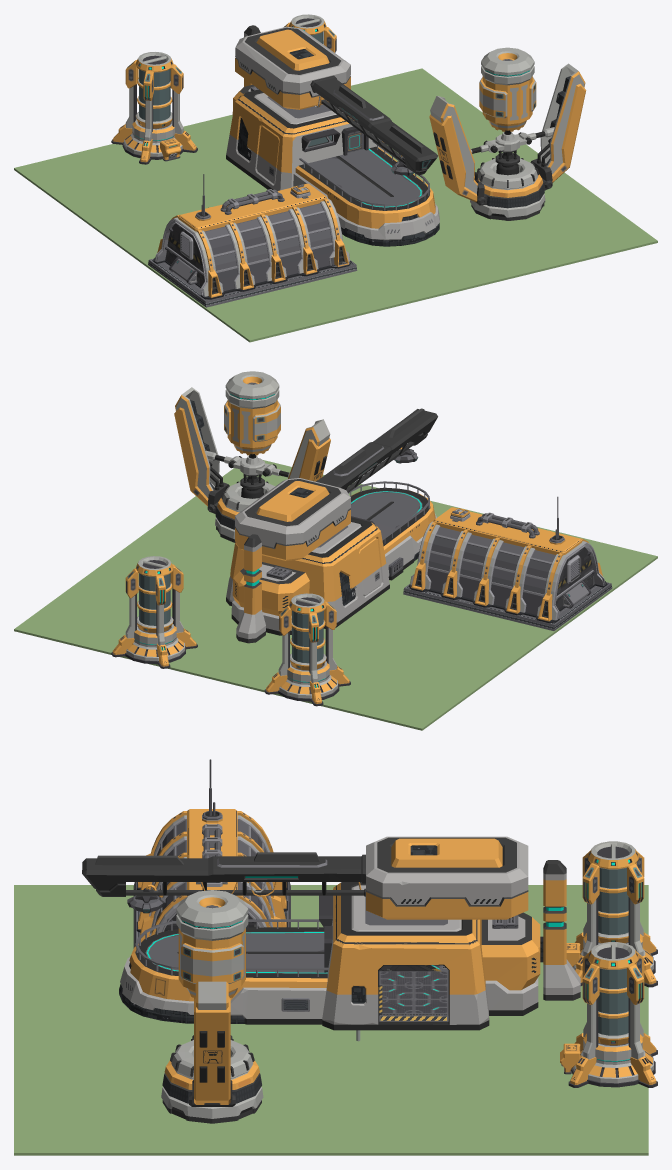
Rendered from chip-manufacturing-plant.glb.
The picture shows the model from 3 angles, top to bottom: view 1: azimuth 30°, elevation 25°; view 2: azimuth 150°, elevation 25°; view 3: azimuth 270°, elevation 25°; orthographic projection. The views are drawn at different scales.
Visible parts, largest first — view 1: Ground, Factory_Main, Admin_Wing, Generator, Cleanroom_0, Cleanroom_1; view 2: Ground, Factory_Main, Admin_Wing, Generator, Cleanroom_1, Cleanroom_0; view 3: Ground, Factory_Main, Generator, Cleanroom_1, Admin_Wing, Cleanroom_0.
Boxes of the visible parts, <box> form: Ground: <box>14,68,657,342</box>; Factory_Main: <box>226,25,439,246</box>; Admin_Wing: <box>148,174,357,307</box>; Generator: <box>429,47,586,220</box>; Cleanroom_0: <box>111,52,197,164</box>; Cleanroom_1: <box>284,14,336,52</box>; Ground: <box>14,460,657,730</box>; Factory_Main: <box>226,408,437,643</box>; Admin_Wing: <box>403,496,612,630</box>; Generator: <box>174,371,330,542</box>; Cleanroom_1: <box>111,556,197,668</box>; Cleanroom_0: <box>264,593,350,706</box>; Ground: <box>14,885,648,1155</box>; Factory_Main: <box>82,836,580,1041</box>; Generator: <box>161,890,263,1123</box>; Cleanroom_1: <box>560,942,657,1087</box>; Admin_Wing: <box>133,759,290,948</box>; Cleanroom_0: <box>566,841,657,987</box>.
Bounding box in the file's own units: 32 × 11.35 × 32.47.
Materials: 2 (1 with a texture image).
